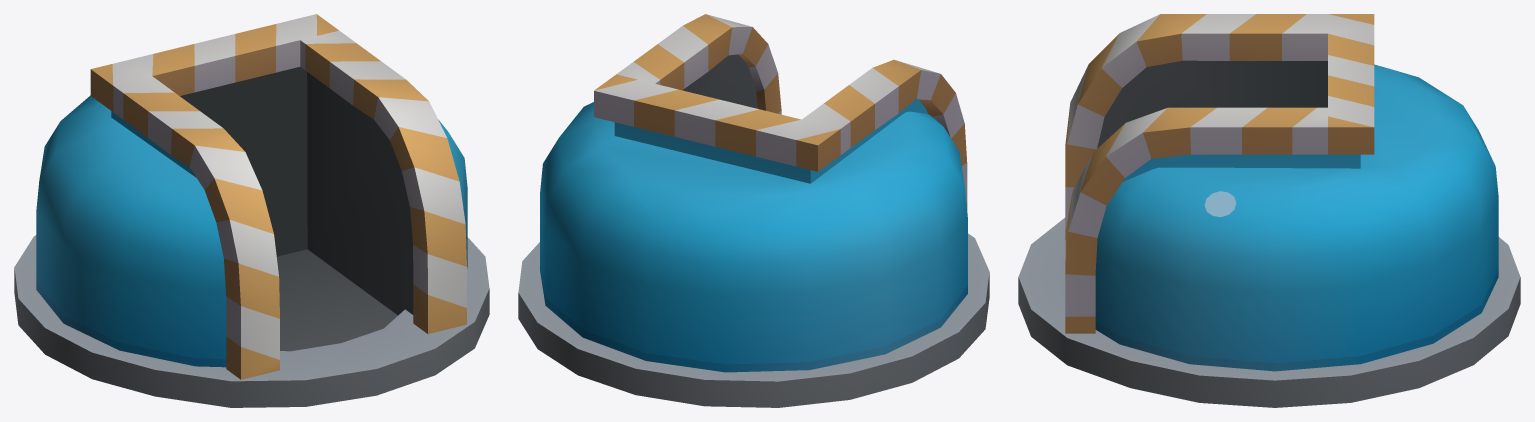
File: ObservatoryTop_0.glb
The picture shows the model from 3 angles, left to right: view 1: azimuth 30°, elevation 25°; view 2: azimuth 150°, elevation 25°; view 3: azimuth 270°, elevation 25°; orthographic projection. The views are drawn at different scales.
Parts seen in each view (by area): view 1: ObservatoryTop; view 2: ObservatoryTop; view 3: ObservatoryTop.
Part boxes in pixels (box(x1,y1,x2,y2)): ObservatoryTop: box(14, 14, 489, 407); ObservatoryTop: box(518, 14, 989, 407); ObservatoryTop: box(1018, 14, 1520, 407).
Size of the model in its own units: 4.61 by 2.42 by 4.71.
